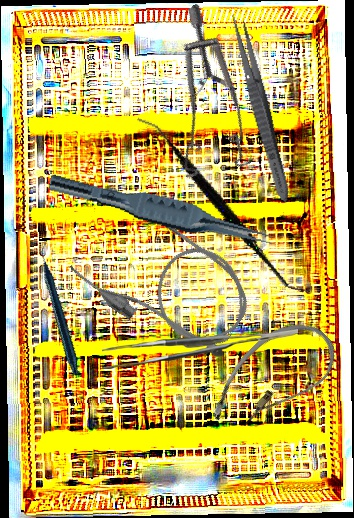Cannula: (63, 187, 267, 372), (199, 304, 347, 454)
Dressing Forceps: (226, 11, 295, 205)
Handpiece: (4, 241, 118, 377)
Spatula Surgical: (103, 117, 344, 294)
Speculum: (106, 2, 293, 199)
Tissue Forceps: (45, 172, 276, 252), (102, 329, 298, 369)
